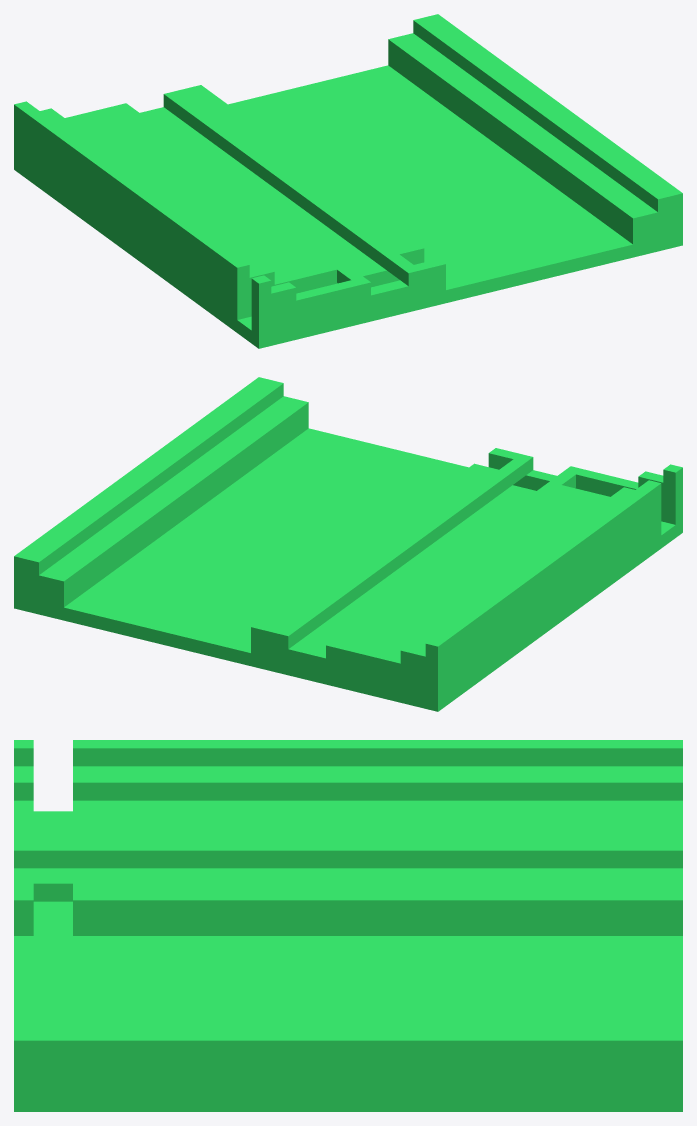
Rendered from ground.gltf.
3 views of the same model, one above another, from view 1: azimuth 30°, elevation 25°; view 2: azimuth 150°, elevation 25°; view 3: azimuth 270°, elevation 25° (orthographic). The views are drawn at different scales.
Parts seen in each view (by area): view 1: Ground; view 2: Ground; view 3: Ground.
Part boxes in pixels (x1,y1,x2,y2): Ground: (14, 14, 682, 348); Ground: (14, 377, 682, 711); Ground: (14, 740, 682, 1111).
Size of the model in its own units: 3.4 by 0.5 by 3.4.
